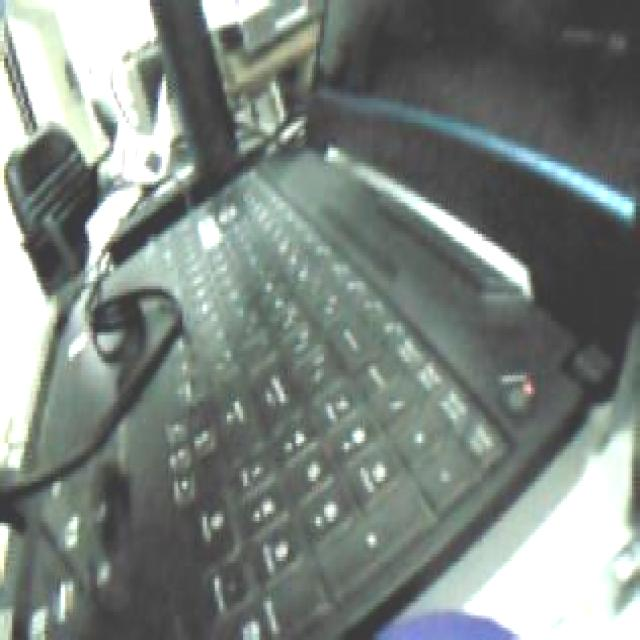BallPurple: (371, 611, 526, 640)
